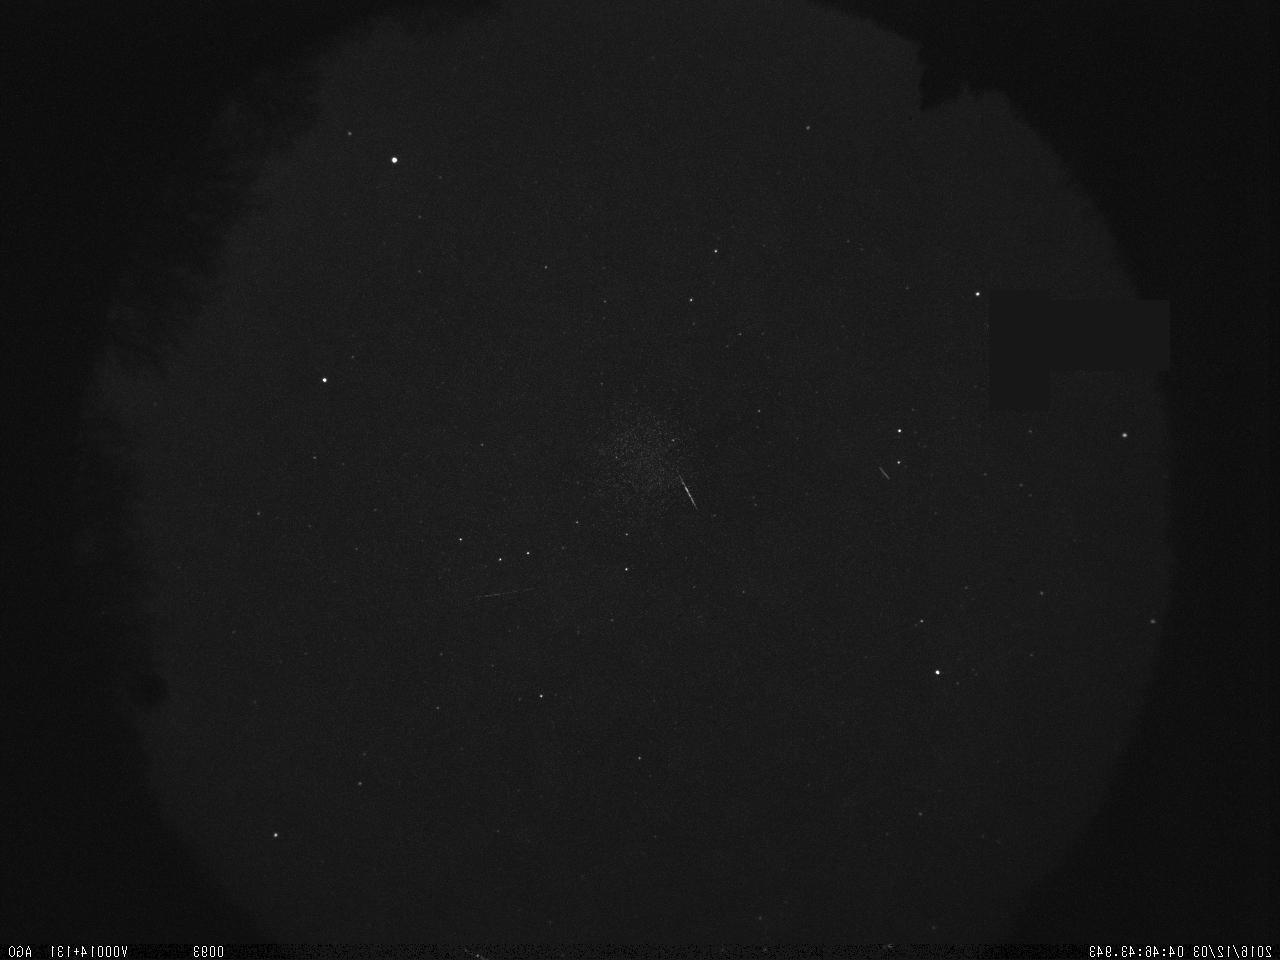meteor: (669, 455, 706, 521)
